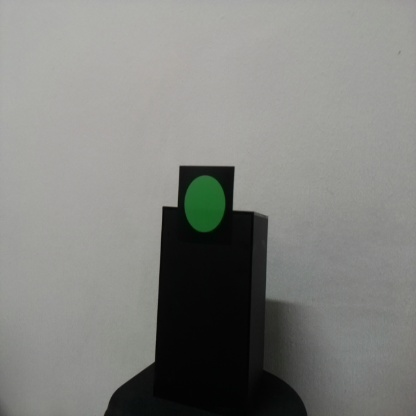id_5: (179, 167, 232, 251)
